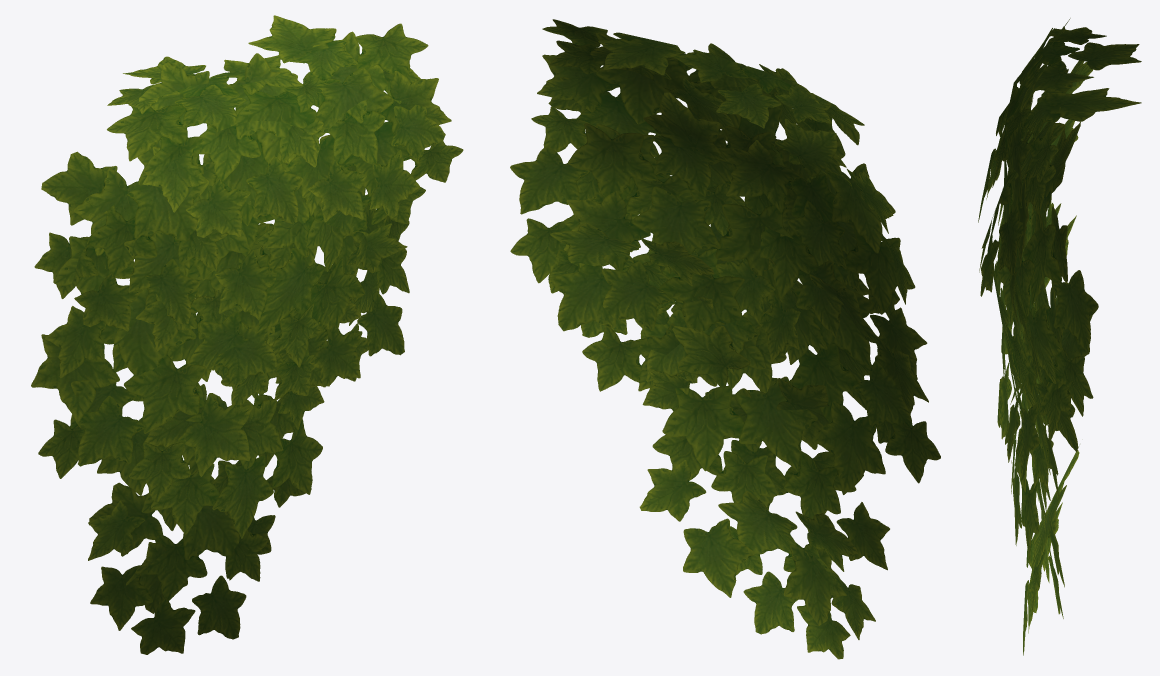
File: MSH_fwOF_Ivy_Top_1.fbx
3 views of the same model, side by side, from view 1: azimuth 30°, elevation 25°; view 2: azimuth 150°, elevation 25°; view 3: azimuth 270°, elevation 25° (orthographic). The views are drawn at different scales.
Visible parts, largest first — view 1: MSH_fwOF_Ivy_Top_1_LOD0; view 2: MSH_fwOF_Ivy_Top_1_LOD0; view 3: MSH_fwOF_Ivy_Top_1_LOD0.
Part boxes in pixels (left/top/right/bottom): MSH_fwOF_Ivy_Top_1_LOD0: left=31, top=15, right=463, bottom=654; MSH_fwOF_Ivy_Top_1_LOD0: left=510, top=19, right=940, bottom=659; MSH_fwOF_Ivy_Top_1_LOD0: left=978, top=18, right=1141, bottom=655.
Size of what is drawn, in the model's own units: 0.7082 by 0.9543 by 0.2294.
